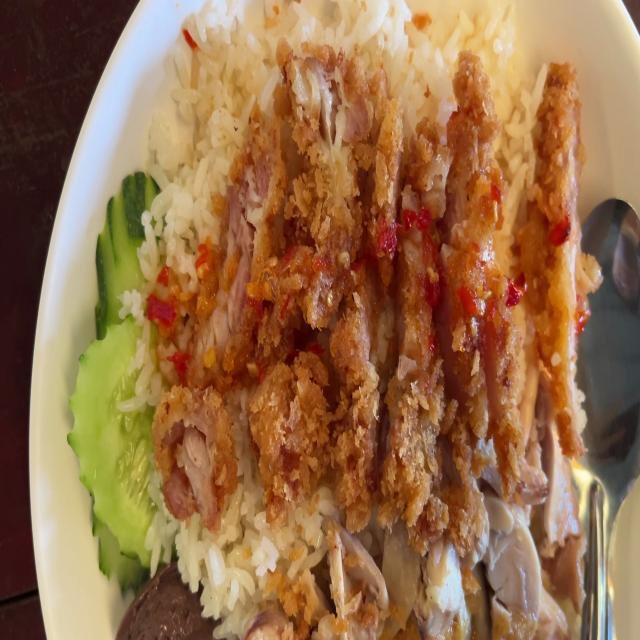boiled_chicken: (244, 497, 584, 640)
boiled_chicken_blood_jelly: (112, 559, 212, 640)
chicken_rice: (70, 0, 604, 640)
cucumber: (72, 170, 173, 572)
fried_chicken: (143, 48, 591, 493)
